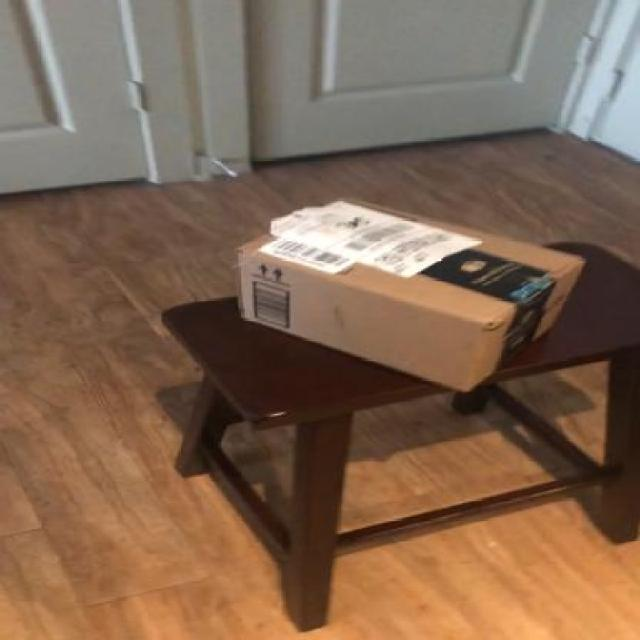cardboxes: (225, 195, 593, 398)
